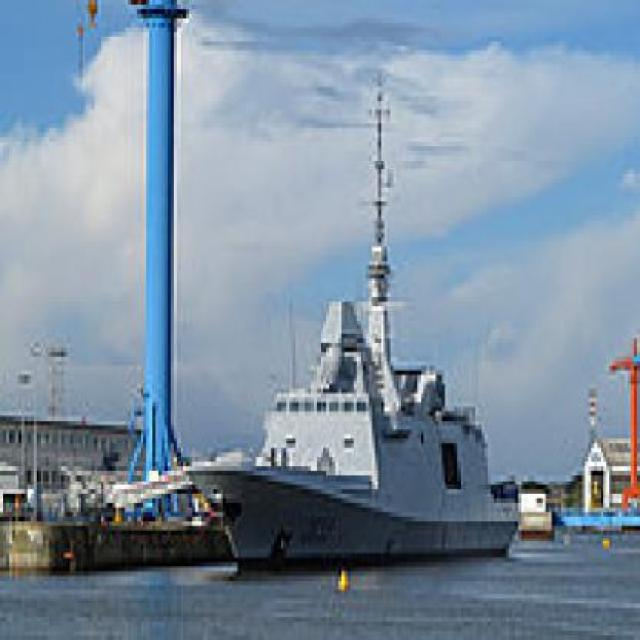warship2: (184, 65, 516, 582)
